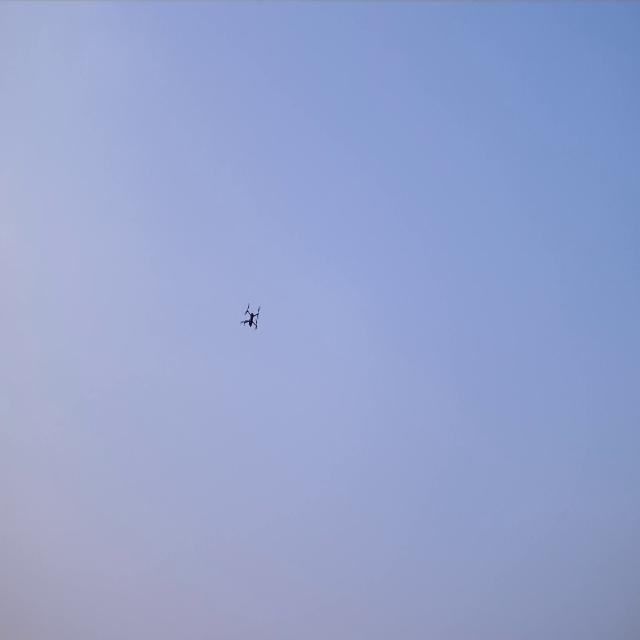UAV: (240, 302, 262, 332)
